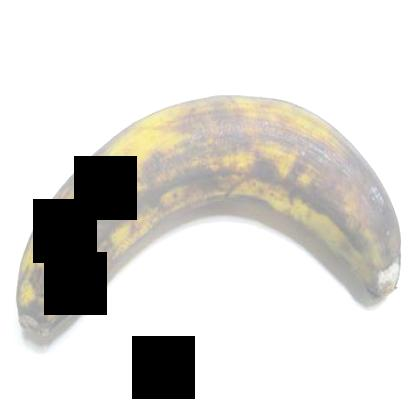overripe: (1, 58, 415, 396)
